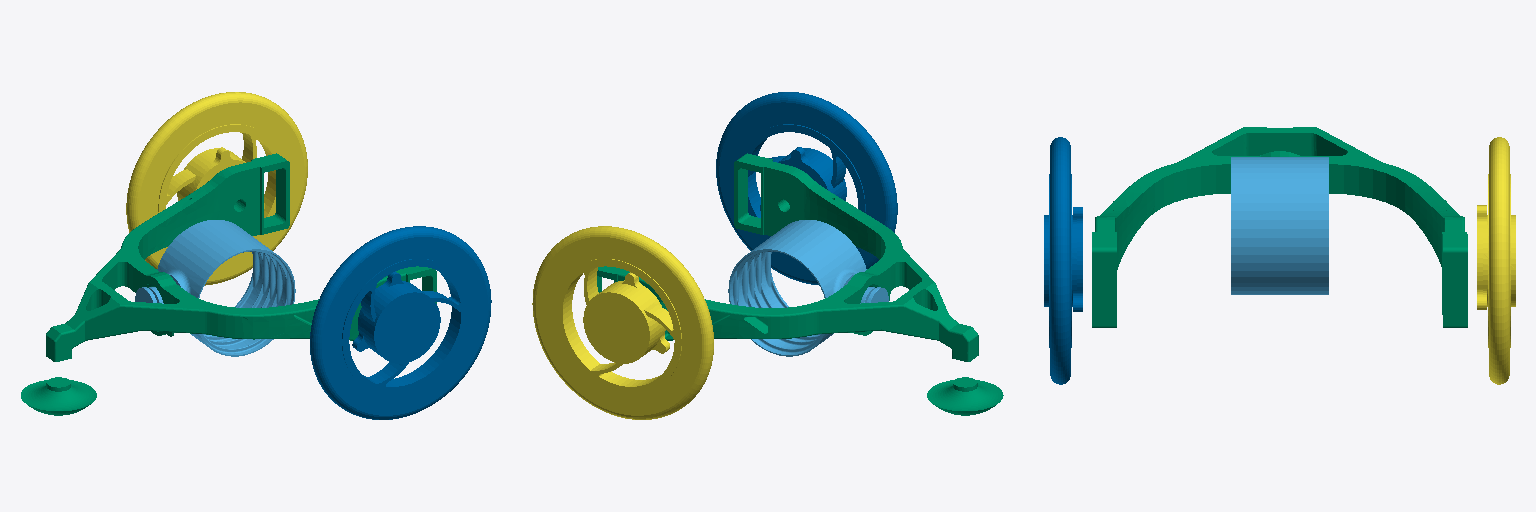
--- What the picture shows (computed from the rendered views, not written in the file) ---
The picture shows the robot from 3 angles, left to right: view 1: azimuth 30°, elevation 25°; view 2: azimuth 150°, elevation 25°; view 3: azimuth 270°, elevation 25°; orthographic projection.
Robot: Eve_base — 5 links, 4 joints (2 revolute, 2 fixed); root link base; default pose: every joint at zero.
Visible links, largest first — view 1: r_wheel, base, l_wheel, ankle_y_link; view 2: l_wheel, base, r_wheel, ankle_y_link; view 3: base, ankle_y_link, r_wheel, l_wheel.
Boxes of the visible links, left/top/right/bottom form: r_wheel: left=310, top=226, right=491, bottom=419; base: left=21, top=153, right=436, bottom=415; l_wheel: left=126, top=92, right=307, bottom=285; ankle_y_link: left=135, top=220, right=295, bottom=356; l_wheel: left=532, top=226, right=713, bottom=419; base: left=597, top=153, right=1003, bottom=415; r_wheel: left=716, top=92, right=897, bottom=285; ankle_y_link: left=728, top=220, right=888, bottom=356; base: left=1092, top=127, right=1467, bottom=327; ankle_y_link: left=1231, top=157, right=1328, bottom=294; r_wheel: left=1044, top=137, right=1082, bottom=384; l_wheel: left=1477, top=137, right=1515, bottom=384.
Size in the robot's own frame: 0.6336 by 0.5797 by 0.3048 metres.
4 mesh visuals loaded from 4 distinct referenced files (3 OBJ); not drawn: 1 (reference not matched to a file when rendering).

The robot description file, URDF, robot "Eve_base":
<?xml version="1.0" encoding="UTF-8" standalone="yes"?>
<robot xmlns:ns2="http://www.ros.org" xmlns:xi="http://www.w3.org/2003/XInclude" name="Eve_base">

<!--  <link name="pelvis">-->
<!--    <inertial>-->
<!--      <origin xyz="-0.01035145 -0.00576441 0.41289202" rpy="0.0 0.0 0.0"/>-->
<!--      <mass value="10.11628645"/>-->
<!--      <inertia ixx="0.16934147" ixy="1.49E-4" ixz="0.00652485" iyy="0.1566806" iyz="-0.00748297" izz="0.05486492"/>-->
<!--    </inertial>-->
<!--    <visual>-->
<!--      <origin xyz="0.0 0.0 0.0" rpy="1.5707963 0.0 1.5707963"/>-->
<!--      <geometry>-->
<!--        <mesh filename="package://eve/meshes/7dof_torso.obj" scale="1 1 1"/>-->
<!--      </geometry>-->
<!--    </visual>-->
<!--&lt;!&ndash;    <collision>&ndash;&gt;-->
<!--&lt;!&ndash;      <origin xyz="0.0 0.0 0.0" rpy="1.5707963 0.0 1.5707963"/>&ndash;&gt;-->
<!--&lt;!&ndash;      <geometry>&ndash;&gt;-->
<!--&lt;!&ndash;        <sphere radius="0.12"/>&ndash;&gt;-->
<!--&lt;!&ndash;      </geometry>&ndash;&gt;-->
<!--&lt;!&ndash;    </collision>&ndash;&gt;-->
<!--  </link>-->
<!--  <joint name="j_hip_z" type="revolute">-->
<!--    <origin xyz="0.0 0.0 0.0" rpy="0.0 0.0 0.0"/>-->
<!--    <parent link="abdomen"/>-->
<!--    <child link="pelvis"/>-->
<!--    <axis xyz="0.0 0.0 -1.0"/>-->
<!--    <limit lower="-1.0472" upper="1.0472" effort="-1.0" velocity="1.0"/>-->
<!--  </joint>-->
<!--  <transmission name="j_hip_z_trans">-->
<!--	  <type>SimpleTransmission</type>-->
<!--	  <joint name="j_hip_z">-->
<!--	    <hardwareInterface>EffortJointInterface</hardwareInterface>-->
<!--	  </joint>-->
<!--	  <actuator name="j_hip_z_actuator">-->
<!--	  </actuator>-->
<!--  </transmission>-->
<!--  <gazebo reference="pelvis">-->
<!--    <sensor name="imu_sensor" type="imu">-->
<!--      <always_on>1</always_on>-->
<!--      <update_rate>1000</update_rate>-->
<!--      <imu>-->
<!--        <noise>-->
<!--          <type>gaussian</type>-->
<!--          <rate>-->
<!--            <mean>0</mean>-->
<!--            <stddev>0.0002</stddev>-->
<!--            <bias_mean>7.5e-06</bias_mean>-->
<!--            <bias_stddev>8e-07</bias_stddev>-->
<!--          </rate>-->
<!--          <accel>-->
<!--            <mean>0</mean>-->
<!--            <stddev>0.017</stddev>-->
<!--            <bias_mean>0.1</bias_mean>-->
<!--            <bias_stddev>0.001</bias_stddev>-->
<!--          </accel>-->
<!--        </noise>-->
<!--      </imu>-->
<!--      <pose frame="">0.0 0.0 0.142 0 0.0 0</pose>-->
<!--    </sensor>-->
<!--  </gazebo>-->

<!--  <link name="abdomen">-->
<!--    <inertial>-->
<!--      <origin xyz="-0.05558735 0.00156974 0.13110756" rpy="0.0 0.0 0.0"/>-->
<!--      <mass value="3.4381772"/>-->
<!--      <inertia ixx="0.05607222" ixy="7.0118E-4" ixz="-0.01468099" iyy="0.05435718" iyz="-0.00188443" izz="0.02016737"/>-->
<!--    </inertial>-->
<!--    <visual>-->
<!--      <origin xyz="0.0 0.0 0.0" rpy="1.5707963 0.0 1.5707963"/>-->
<!--      <geometry>-->
<!--        <mesh filename="package://eve/meshes/abdomen.obj" scale="1 1 1"/>-->
<!--      </geometry>-->
<!--    </visual>-->
<!--  </link>-->
<!--  <joint name="j_hip_x" type="revolute">-->
<!--    <origin xyz="0.0 0.0 0.0" rpy="0.0 0.0 0.0"/>-->
<!--    <parent link="hip_x_link"/>-->
<!--    <child link="abdomen"/>-->
<!--    <axis xyz="1.0 0.0 0.0"/>-->
<!--    <limit lower="-0.523599" upper="0.523599" effort="-1.0" velocity="1.0"/>-->
<!--  </joint>-->
<!--  <transmission name="j_hip_x_trans">-->
<!--    <type>SimpleTransmission</type>-->
<!--    <joint name="j_hip_x">-->
<!--      <hardwareInterface>EffortJointInterface</hardwareInterface>-->
<!--    </joint>-->
<!--    <actuator name="j_hip_x_actuator">-->
<!--    </actuator>-->
<!--  </transmission>-->
<!--  <link name="hip_x_link">-->
<!--    <inertial>-->
<!--      <origin xyz="-0.013462 -0.001267 -7.7E-5" rpy="0.0 0.0 0.0"/>-->
<!--      <mass value="2.868669"/>-->
<!--      <inertia ixx="0.013678" ixy="5.6E-5" ixz="-7.6E-4" iyy="0.014884" iyz="1.4E-5" izz="0.016484"/>-->
<!--    </inertial>-->
<!--    <visual>-->
<!--      <origin xyz="0.0 0.0 0.0" rpy="1.5707963 0.0 1.5707963"/>-->
<!--      <geometry>-->
<!--        <mesh filename="package://eve/meshes/hip.obj" scale="1 1 1"/>-->
<!--      </geometry>-->
<!--    </visual>-->
<!--  </link>-->
<!--  <joint name="j_hip_y" type="revolute">-->
<!--    <origin xyz="0.0 0.0 0.4" rpy="0.0 0.0 0.0"/>-->
<!--    <parent link="thigh"/>-->
<!--    <child link="hip_x_link"/>-->
<!--    <axis xyz="0.0 1.0 0.0"/>-->
<!--    <limit lower="-1.57" upper="0.174533" effort="-1.0" velocity="1.0"/>-->
<!--  </joint>-->
<!--  <transmission name="j_hip_y_trans">-->
<!--    <type>SimpleTransmission</type>-->
<!--    <joint name="j_hip_y">-->
<!--      <hardwareInterface>EffortJointInterface</hardwareInterface>-->
<!--    </joint>-->
<!--    <actuator name="j_hip_y_actuator">-->
<!--    </actuator>-->
<!--  </transmission>-->
<!--  <link name="thigh">-->
<!--    <inertial>-->
<!--      &lt;!&ndash; <origin xyz="0.048668 0.002117 -0.216367" rpy="0.0 0.0 0.0"/> &ndash;&gt;-->
<!--      <origin xyz="0.048668 0.002117 0.183633" rpy="0.0 0.0 0.0"/>-->
<!--      <mass value="12.846698"/>-->
<!--      <inertia ixx="0.172201" ixy="-0.001348" ixz="0.012646" iyy="0.155119" iyz="-6.0E-4" izz="0.076153"/>-->
<!--    </inertial>-->
<!--    <visual>-->
<!--      <origin xyz="0.0 0.0 0.4" rpy="1.5707963 0.0 1.5707963"/>-->
<!--      <geometry>-->
<!--        <mesh filename="package://eve/meshes/thigh.obj" scale="1 1 1"/>-->
<!--      </geometry>-->
<!--    </visual>-->
<!--  </link>-->
<!--  <joint name="j_knee_y" type="revolute">-->
<!--    &lt;!&ndash; <origin xyz="0.0 0.0 -0.4" rpy="0.0 0.0 0.0"/> &ndash;&gt;-->
<!--    <origin xyz="0.0 0.0 0.38" rpy="0.0 0.0 0.0"/>-->
<!--    <parent link="shin"/>-->
<!--    <child link="thigh"/>-->
<!--    <axis xyz="0.0 1.0 0.0"/>-->
<!--    <limit lower="0.0" upper="2.583" effort="-1.0" velocity="1.0"/>-->
<!--  </joint>-->
<!--  <transmission name="j_knee_y_trans">-->
<!--    <type>SimpleTransmission</type>-->
<!--    <joint name="j_knee_y">-->
<!--      <hardwareInterface>EffortJointInterface</hardwareInterface>-->
<!--    </joint>-->
<!--    <actuator name="j_knee_y_actuator">-->
<!--    </actuator>-->
<!--  </transmission>-->
  <link name="shin">
    <inertial>
      <!-- <origin xyz="0.019484 6.7E-5 -0.167324" rpy="0.0 0.0 0.0"/> -->
      <origin xyz="0.019484 6.7E-5 0.212676" rpy="0.0 0.0 0.0"/>
      <mass value="10.894892"/>
      <inertia ixx="0.191988" ixy="-2.08E-4" ixz="0.005202" iyy="0.176793" iyz="-3.45E-4" izz="0.049718"/>
    </inertial>
    <visual>
      <origin xyz="0.0 0.0 0.38" rpy="1.5707963 0.0 1.5707963"/>
      <geometry>
        <mesh filename="package://eve/meshes/shin.obj" scale="1 1 1"/>
      </geometry>
    </visual>
  </link>
  <joint name="j_ankle_y" type="revolute">
    <!-- <origin xyz="0.0 0.0 -0.38" rpy="0.0 0.0 0.0"/> -->
    <origin xyz="0.0 0.0 0.0" rpy="0.0 0.0 0.0"/>
    <parent link="ankle_y_link"/>
    <child link="shin"/>
    <axis xyz="0.0 1.0 0.0"/>
    <limit lower="-0.174533" upper="1.57" effort="1.0" velocity="1.0"/>
  </joint>
  <transmission name="j_ankle_y_trans">
    <type>SimpleTransmission</type>
    <joint name="j_ankle_y">
      <hardwareInterface>EffortJointInterface</hardwareInterface>
    </joint>
    <actuator name="j_ankle_y_actuator">
    </actuator>
  </transmission>
  <link name="ankle_y_link">
    <inertial>
      <origin xyz="-0.017821 0.001497 -6.49E-4" rpy="0.0 0.0 0.0"/>
      <mass value="2.656189"/>
      <inertia ixx="0.010249" ixy="-8.2E-5" ixz="2.65E-4" iyy="0.009117" iyz="9.0E-6" izz="0.013843"/>
    </inertial>
    <visual>
      <origin xyz="0.0 0.0 0.0" rpy="1.5707963 0.0 1.5707963"/>
      <geometry>
        <mesh filename="package://eve/meshes/ankle.obj" scale="1 1 1"/>
      </geometry>
    </visual>
  </link>
  <joint name="j_ankle_x" type="revolute">
    <origin xyz="0.0 0.0 0.0" rpy="0.0 0.0 0.0"/>
    <parent link="base"/>
    <child link="ankle_y_link"/>
    <axis xyz="1.0 0.0 0.0"/>
    <limit lower="-0.523599" upper="0.523599" effort="1.0" velocity="1.0"/>
  </joint>
  <transmission name="j_ankle_x_trans">
    <type>SimpleTransmission</type>
    <joint name="j_ankle_x">
      <hardwareInterface>EffortJointInterface</hardwareInterface>
    </joint>
    <actuator name="j_ankle_x_actuator">
    </actuator>
  </transmission>
  <link name="base">
    <inertial>
      <origin xyz="0.021997 0.006327 -0.006204" rpy="0.0 0.0 0.0"/>
      <mass value="13.647499"/>
      <inertia ixx="0.461101" ixy="-0.004042" ixz="-0.020010" iyy="0.246583" iyz="-0.000110" izz="0.679520"/>
    </inertial>
    <visual>
      <origin xyz="0.0 0.0 0.0" rpy="1.5707963 0.0 1.5707963"/>
      <geometry>
        <mesh filename="package://eve/meshes/base_wheels.obj" scale="1 1 1"/>
        <!-- <box size=".5 .15 .5" /> -->
      </geometry>
    </visual>
<!--    <collision>-->
<!--      <origin xyz="-0.28 0.0 -0.08" rpy="1.5707963 0.0 1.5707963"/>-->
<!--      <geometry>-->
<!--        <sphere radius="0.05"/>-->
<!--      </geometry>-->
<!--    </collision>-->
<!--    <collision>-->
<!--      <origin xyz="0.0 0.0 0.0" rpy="1.5707963 0.0 1.5707963"/>-->
<!--      <geometry>-->
<!--        &lt;!&ndash; <mesh filename="package://eve/meshes/base_wheels.obj" scale="1 1 1"/> &ndash;&gt;-->
<!--        <box size=".4 .15 .6" />-->
<!--      </geometry>-->
<!--    </collision>-->
  </link>


  <joint name="j_l_wheel_y" type="fixed">
    <origin xyz="0.142 0.26983 0.019" rpy="0.0 0.0 0.0"/>
    <parent link="base"/>
    <child link="l_wheel"/>
    <axis xyz="0.0 1.0 0.0"/>
    <limit lower="-1.0E16" upper="1.0E16" effort="-1.0" velocity="1.0"/>
  </joint>
<!--  <transmission name="j_l_wheel_y_trans">-->
<!--    <type>SimpleTransmission</type>-->
<!--    <joint name="j_l_wheel_y">-->
<!--      <hardwareInterface>EffortJointInterface</hardwareInterface>-->
<!--    </joint>-->
<!--    <actuator name="j_l_wheel_y_actuator">-->
<!--    </actuator>-->
<!--  </transmission>-->
  <link name="l_wheel">
    <inertial>
      <origin xyz="0.0 0.0 0.0" rpy="0.0 0.0 0.0"/>
      <mass value="1.52693"/>
      <inertia ixx="0.007129" ixy="-0.0" ixz="-0.0" iyy="0.013685" iyz="-0.0" izz="0.007131"/>
    </inertial>
    <visual>
      <origin xyz="0.0 0.0 0.0" rpy="1.5707963 0.0 -1.5707963"/>
      <geometry>
        <mesh filename="package://eve/meshes/wheel.obj" scale="1 1 1"/>
        <!-- <cylinder length="0.02" radius="0.14"/> -->
      </geometry>
    </visual>
<!--    <collision>-->
<!--      <origin xyz="0.0 0.0 0.0" rpy="1.5707963 0.0 0.0"/>-->
<!--      <geometry>-->
<!--        &lt;!&ndash; <mesh filename="package://eve/meshes/wheel.obj" scale="1 1 1"/> &ndash;&gt;-->
<!--        <cylinder length="0.02" radius="0.14"/>-->
<!--      </geometry>-->
<!--    </collision>-->
  </link>
  <joint name="j_r_wheel_y" type="fixed">
    <origin xyz="0.142 -0.26983 0.019" rpy="0.0 0.0 0.0"/>
    <parent link="base"/>
    <child link="r_wheel"/>
    <axis xyz="0.0 1.0 0.0"/>
    <limit lower="-1.0E16" upper="1.0E16" effort="-1.0" velocity="1.0"/>
  </joint>
<!--  <transmission name="j_r_wheel_y_trans">-->
<!--    <type>SimpleTransmission</type>-->
<!--    <joint name="j_r_wheel_y">-->
<!--      <hardwareInterface>EffortJointInterface</hardwareInterface>-->
<!--    </joint>-->
<!--    <actuator name="j_r_wheel_y_actuator">-->
<!--    </actuator>-->
<!--  </transmission>-->
  <link name="r_wheel">
    <inertial>
      <origin xyz="0.0 0.0 0.0" rpy="0.0 0.0 0.0"/>
      <mass value="1.52693"/>
      <inertia ixx="0.007129" ixy="-0.0" ixz="-0.0" iyy="0.013685" iyz="-0.0" izz="0.007131"/>
    </inertial>
    <visual>
      <origin xyz="0.0 0.0 0.0" rpy="1.5707963 0.0 1.5707963"/>
      <geometry>
        <mesh filename="package://eve/meshes/wheel.obj" scale="1 1 1"/>
        <!-- <cylinder length="0.02" radius="0.14"/> -->
      </geometry>
    </visual>
<!--    <collision>-->
<!--      <origin xyz="0.0 0.0 0.0" rpy="1.5707963 0.0 0.0"/>-->
<!--      <geometry>-->
<!--        <cylinder length="0.02" radius="0.14"/>-->
<!--        &lt;!&ndash; <mesh filename="package://eve/meshes/wheel.obj" scale="1 1 1"/> &ndash;&gt;-->
<!--      </geometry>-->
<!--    </collision> -->
  </link>



<!--  <joint name="j_r_shoulder_y" type="revolute">-->
<!--    <origin xyz="0.010525 -0.207221 0.545525" rpy="-0.253261563 0.0 0.261799"/>-->
<!--    <parent link="pelvis"/>-->
<!--    <child link="r_scapula"/>-->
<!--    <axis xyz="0.0 1.0 0.0"/>-->
<!--    <limit lower="-2.4240878" upper="0.981049573" effort="-1.0" velocity="1.0"/>-->
<!--  </joint>-->
<!--  <transmission name="j_r_shoulder_y_trans">-->
<!--    <type>SimpleTransmission</type>-->
<!--    <joint name="j_r_shoulder_y">-->
<!--      <hardwareInterface>EffortJointInterface</hardwareInterface>-->
<!--    </joint>-->
<!--    <actuator name="j_r_shoulder_y_actuator">-->
<!--    </actuator>-->
<!--  </transmission>-->
<!--  <link name="r_scapula">-->
<!--    <inertial>-->
<!--      <origin xyz="6.1099E-4 0.06306661 0.03032448" rpy="0.0 0.0 0.0"/>-->
<!--      <mass value="2.75566786"/>-->
<!--      <inertia ixx="0.00936557" ixy="2.264E-5" ixz="-7.112E-5" iyy="0.01079015" iyz="8.423E-4" izz="0.01267759"/>-->
<!--    </inertial>-->
<!--    <visual>-->
<!--      <origin xyz="0.0 0.0 0.0" rpy="1.5707963 1.5707963 0.0"/>-->
<!--      <geometry>-->
<!--        <mesh filename="../meshes/7dof_scapula.obj" scale="1 1 1"/>-->
<!--      </geometry>-->
<!--    </visual>-->
<!--  </link>-->
<!--  <joint name="j_r_shoulder_x" type="revolute">-->
<!--    <origin xyz="0.0 0.0 0.0" rpy="0.253261563 0.0 0.0"/>-->
<!--    <parent link="r_scapula"/>-->
<!--    <child link="r_shoulder"/>-->
<!--    <axis xyz="1.0 0.0 0.0"/>-->
<!--    <limit lower="-2.0943951" upper="0.0872665" effort="-1.0" velocity="1.0"/>-->
<!--  </joint>-->
<!--  <transmission name="j_r_shoulder_x_trans">-->
<!--    <type>SimpleTransmission</type>-->
<!--    <joint name="j_r_shoulder_x">-->
<!--      <hardwareInterface>EffortJointInterface</hardwareInterface>-->
<!--    </joint>-->
<!--    <actuator name="j_r_shoulder_x_actuator">-->
<!--    </actuator>-->
<!--  </transmission>-->
<!--  <link name="r_shoulder">-->
<!--    <inertial>-->
<!--      <origin xyz="0.0 -7.0614E-4 -0.01975465" rpy="0.0 0.0 0.0"/>-->
<!--      <mass value="0.70264272"/>-->
<!--      <inertia ixx="0.00115475" ixy="-3.2E-7" ixz="-1.4E-7" iyy="0.00143713" iyz="2.63E-6" izz="9.4633E-4"/>-->
<!--    </inertial>-->
<!--    <visual>-->
<!--      <origin xyz="0.0 0.0 0.0" rpy="1.5708 0 0"/>-->
<!--      <geometry>-->
<!--        <mesh filename="../meshes/7dof_shoulder.obj" scale="1 1 1"/>-->
<!--      </geometry>-->
<!--    </visual>-->
<!--  </link>-->
<!--  <joint name="j_r_shoulder_z" type="revolute">-->
<!--    <origin xyz="0.0 0.0 0.0" rpy="0.0 0.0 -0.261799"/>-->
<!--    <parent link="r_shoulder"/>-->
<!--    <child link="r_upper_arm"/>-->
<!--    <axis xyz="0.0 0.0 1.0"/>-->
<!--    <limit lower="0.0872665" upper="2.0943951" effort="-1.0" velocity="1.0"/>-->
<!--  </joint>-->
<!--  <transmission name="j_r_shoulder_z_trans">-->
<!--    <type>SimpleTransmission</type>-->
<!--    <joint name="j_r_shoulder_z">-->
<!--      <hardwareInterface>EffortJointInterface</hardwareInterface>-->
<!--    </joint>-->
<!--    <actuator name="j_r_shoulder_z_actuator">-->
<!--    </actuator>-->
<!--  </transmission>-->
<!--  <link name="r_upper_arm">-->
<!--    <inertial>-->
<!--      <origin xyz="-0.0062579 3.507E-5 -0.17187666" rpy="0.0 0.0 0.0"/>-->
<!--      <mass value="2.92531724"/>-->
<!--      <inertia ixx="0.01341653" ixy="-6.4E-7" ixz="-2.9063E-4" iyy="0.01287847" iyz="-3.08E-6" izz="0.00487381"/>-->
<!--    </inertial>-->
<!--    <visual>-->
<!--      <origin xyz="0.0 0.0 -0.314" rpy="1.5707963 0.0 1.5707963"/>-->
<!--      <geometry>-->
<!--        <mesh filename="../meshes/7dof_upper_arm.obj" scale="1 1 1"/>-->
<!--      </geometry>-->
<!--    </visual>-->
<!--  </link>-->
<!--  <joint name="j_r_elbow_y" type="revolute">-->
<!--    <origin xyz="0.0 0.0 -0.313989" rpy="0.0 0.0 0.0"/>-->
<!--    <parent link="r_upper_arm"/>-->
<!--    <child link="r_elbow"/>-->
<!--    <axis xyz="0.0 1 0.0"/>-->
<!--    <limit lower="-2.18166" upper="0.0" effort="-1.0" velocity="1.0"/>-->
<!--  </joint>-->
<!--  <transmission name="j_r_elbow_y_trans">-->
<!--    <type>SimpleTransmission</type>-->
<!--    <joint name="j_r_elbow_y">-->
<!--      <hardwareInterface>EffortJointInterface</hardwareInterface>-->
<!--    </joint>-->
<!--    <actuator name="j_r_elbow_y_actuator">-->
<!--    </actuator>-->
<!--  </transmission>-->
<!--  <link name="r_elbow">-->
<!--    <inertial>-->
<!--      <origin xyz="5.494E-5 0.0 -0.00888504" rpy="0.0 0.0 0.0"/>-->
<!--      <mass value="0.46261553"/>-->
<!--      <inertia ixx="8.227E-4" ixy="-0.0" ixz="9.6E-7" iyy="3.6441E-4" iyz="-0.0" izz="6.1472E-4"/>-->
<!--    </inertial>-->
<!--    <visual>-->
<!--      <origin xyz="0.0 0.0 0.0" rpy="1.5707963 0.0 1.5707963"/>-->
<!--      <geometry>-->
<!--        <mesh filename="../meshes/7dof_elbow.obj" scale="1 1 1"/>-->
<!--      </geometry>-->
<!--    </visual>-->
<!--&lt;!&ndash;    <collision>&ndash;&gt;-->
<!--&lt;!&ndash;      <origin xyz="0.0 0.0 0.0" rpy="1.5707963 0.0 1.5707963"/>&ndash;&gt;-->
<!--&lt;!&ndash;      <geometry>&ndash;&gt;-->
<!--&lt;!&ndash;        <sphere radius="0.07"/>&ndash;&gt;-->
<!--&lt;!&ndash;      </geometry>&ndash;&gt;-->
<!--&lt;!&ndash;    </collision>&ndash;&gt;-->
<!--  </link>-->
<!--  <joint name="j_r_elbow_z" type="revolute">-->
<!--    <origin xyz="0.0 0.0 0.0" rpy="0.0 0.0 0.0"/>-->
<!--    <parent link="r_elbow"/>-->
<!--    <child link="r_lower_arm"/>-->
<!--    <axis xyz="0.0 0.0 1"/>-->
<!--    <limit lower="-0.7854" upper="1.5708" effort="-1.0" velocity="1.0"/>-->
<!--  </joint>-->
<!--  <transmission name="j_r_elbow_z_trans">-->
<!--    <type>SimpleTransmission</type>-->
<!--    <joint name="j_r_elbow_z">-->
<!--      <hardwareInterface>EffortJointInterface</hardwareInterface>-->
<!--    </joint>-->
<!--    <actuator name="j_r_elbow_z_actuator">-->
<!--    </actuator>-->
<!--  </transmission>-->
<!--  <link name="r_lower_arm">-->
<!--    <inertial>-->
<!--      <origin xyz="-4.326E-5 3.091E-5 -0.13751046" rpy="0.0 0.0 0.0"/>-->
<!--      <mass value="1.63933464"/>-->
<!--      <inertia ixx="0.00678741" ixy="1.11E-6" ixz="-1.253E-5" iyy="0.00706746" iyz="1.485E-5" izz="0.00183806"/>-->
<!--    </inertial>-->
<!--    <visual>-->
<!--      <origin xyz="0.0 0.0 -0.292850" rpy="1.5707963 0.0 1.5707963"/>-->
<!--      <geometry>-->
<!--        <mesh filename="../meshes/7dof_forearm.obj" scale="1 1 1"/>-->
<!--      </geometry>-->
<!--    </visual>-->
<!--  </link>-->
<!--  <joint name="j_r_wrist_y" type="revolute">-->
<!--    <origin xyz="0.0 0.0 -0.292850" rpy="0.0 0.0 0.0"/>-->
<!--    <parent link="r_lower_arm"/>-->
<!--    <child link="r_wrist"/>-->
<!--    <axis xyz="0.0 1 0.0"/>-->
<!--    <limit lower="-0.785398" upper="0.785398" effort="-1.0" velocity="1.0"/>-->
<!--  </joint>-->
<!--  <transmission name="j_r_wrist_y_trans">-->
<!--    <type>SimpleTransmission</type>-->
<!--    <joint name="j_r_wrist_y">-->
<!--      <hardwareInterface>EffortJointInterface</hardwareInterface>-->
<!--    </joint>-->
<!--    <actuator name="j_r_wrist_y_actuator">-->
<!--    </actuator>-->
<!--  </transmission>-->
<!--  <link name="r_wrist">-->
<!--    <inertial>-->
<!--      <origin xyz="0.00240142 7.9666E-4 -0.00125392" rpy="0.0 0.0 0.0"/>-->
<!--      <mass value="0.30363399"/>-->
<!--      <inertia ixx="1.8188E-4" ixy="2.27E-6" ixz="-2.16E-6" iyy="1.6139E-4" iyz="-9.5E-7" izz="2.7335E-4"/>-->
<!--    </inertial>-->
<!--    <visual>-->
<!--      <origin xyz="0.0 0.0 0.0" rpy="1.5707963 0.0 1.5707963"/>-->
<!--      <geometry>-->
<!--        <mesh filename="../meshes/7dof_wrist.obj" scale="1 1 1"/>-->
<!--      </geometry>-->
<!--    </visual>-->
<!--  </link>-->
<!--  <joint name="j_r_wrist_x" type="revolute">-->
<!--    <origin xyz="0.0 0.0 0.0" rpy="0.0 0.0 0.0"/>-->
<!--    <parent link="r_wrist"/>-->
<!--    <child link="r_palm"/>-->
<!--    <axis xyz="1 0.0 0.0"/>-->
<!--    <limit lower="-0.523599" upper="1.5708" effort="-1.0" velocity="1.0"/>-->
<!--  </joint>-->
<!--  <transmission name="j_r_wrist_x_trans">-->
<!--    <type>SimpleTransmission</type>-->
<!--    <joint name="j_r_wrist_x">-->
<!--      <hardwareInterface>EffortJointInterface</hardwareInterface>-->
<!--    </joint>-->
<!--    <actuator name="j_r_wrist_x_actuator">-->
<!--    </actuator>-->
<!--  </transmission>-->
<!--  <link name="r_palm">-->
<!--    <inertial>-->
<!--      <origin xyz="0.00618476 -0.00346679 -0.01888817" rpy="0.0 0.0 0.0"/>-->
<!--      <mass value="0.1486378"/>-->
<!--      <inertia ixx="1.177E-4" ixy="-2.72E-6" ixz="-1.656E-5" iyy="2.8407E-4" iyz="-5.49E-6" izz="2.1805E-4"/>-->
<!--    </inertial>-->
<!--    <visual>-->
<!--      <origin xyz="0.0 0.0 0.0" rpy="-1.5707963 0.0 0.0"/>-->
<!--      <geometry>-->
<!--        <mesh filename="../meshes/7dof_palm.obj" scale="1 1 1"/>-->
<!--      </geometry>-->
<!--    </visual>-->
<!--&lt;!&ndash;    <collision>&ndash;&gt;-->
<!--&lt;!&ndash;      <origin xyz="0.0 0.0 0.0" rpy="-1.5707963 0.0 3.14159"/>&ndash;&gt;-->
<!--&lt;!&ndash;      <geometry>&ndash;&gt;-->
<!--&lt;!&ndash;        <sphere radius="0.05"/>&ndash;&gt;-->
<!--&lt;!&ndash;      </geometry>&ndash;&gt;-->
<!--&lt;!&ndash;    </collision>&ndash;&gt;-->
<!--  </link>-->


<!--  <joint name="j_l_shoulder_y" type="revolute">-->
<!--    <origin xyz="0.010525 0.207221 0.545525" rpy="0.253261563 0.0 -0.261799"/>-->
<!--    <parent link="pelvis"/>-->
<!--    <child link="l_scapula"/>-->
<!--    <axis xyz="0.0 1.0 0.0"/>-->
<!--    <limit lower="-2.4240878" upper="0.981049573" effort="-1.0" velocity="1.0"/>-->
<!--  </joint>-->
<!--  <transmission name="j_l_shoulder_y_trans">-->
<!--    <type>SimpleTransmission</type>-->
<!--    <joint name="j_l_shoulder_y">-->
<!--      <hardwareInterface>EffortJointInterface</hardwareInterface>-->
<!--    </joint>-->
<!--    <actuator name="j_l_shoulder_y_actuator">-->
<!--    </actuator>-->
<!--  </transmission>-->
<!--  <link name="l_scapula">-->
<!--    <inertial>-->
<!--      <origin xyz="-6.1099E-4 -0.06306661 0.03032448" rpy="0.0 0.0 0.0"/>-->
<!--      <mass value="2.75566786"/>-->
<!--      <inertia ixx="0.00936557" ixy="2.264E-5" ixz="7.112E-5" iyy="0.01079015" iyz="-8.423E-4" izz="0.01267759"/>-->
<!--    </inertial>-->
<!--    <visual>-->
<!--      <origin xyz="0.0 0.0 0.0" rpy="0.0 1.5707963 1.5707963"/>-->
<!--      <geometry>-->
<!--        <mesh filename="../meshes/7dof_scapula.obj" scale="1 1 1"/>-->
<!--      </geometry>-->
<!--    </visual>-->
<!--  </link>-->
<!--  <joint name="j_l_shoulder_x" type="revolute">-->
<!--    <origin xyz="0.0 0.0 0.0" rpy="-0.253261563 0.0 0.0"/>-->
<!--    <parent link="l_scapula"/>-->
<!--    <child link="l_shoulder"/>-->
<!--    <axis xyz="1.0 0.0 0.0"/>-->
<!--    <limit lower="-0.0872665" upper="2.0943951" effort="-1.0" velocity="1.0"/>-->
<!--  </joint>-->
<!--  <transmission name="j_l_shoulder_x_trans">-->
<!--    <type>SimpleTransmission</type>-->
<!--    <joint name="j_l_shoulder_x">-->
<!--      <hardwareInterface>EffortJointInterface</hardwareInterface>-->
<!--    </joint>-->
<!--    <actuator name="j_l_shoulder_x_actuator">-->
<!--    </actuator>-->
<!--  </transmission>-->
<!--  <link name="l_shoulder">-->
<!--    <inertial>-->
<!--      <origin xyz="0.0 7.0624E-4 -0.01975437" rpy="0.0 0.0 0.0"/>-->
<!--      <mass value="0.70265653"/>-->
<!--      <inertia ixx="0.00115475" ixy="-3.2E-7" ixz="1.3E-7" iyy="0.00143715" iyz="-2.63E-6" izz="9.4634E-4"/>-->
<!--    </inertial>-->
<!--    <visual>-->
<!--      <origin xyz="0.0 0.0 0.0" rpy="1.5708 0.0 0.0"/>-->
<!--      <geometry>-->
<!--        <mesh filename="../meshes/7dof_shoulder.obj" scale="1 1 1"/>-->
<!--      </geometry>-->
<!--    </visual>-->
<!--  </link>-->
<!--  <joint name="j_l_shoulder_z" type="revolute">-->
<!--    <origin xyz="0.0 0.0 0.0" rpy="0.0 0.0 0.261799"/>-->
<!--    <parent link="l_shoulder"/>-->
<!--    <child link="l_upper_arm"/>-->
<!--    <axis xyz="0.0 0.0 1.0"/>-->
<!--    <limit lower="-2.0943951" upper="-0.0872665" effort="-1.0" velocity="1.0"/>-->
<!--  </joint>-->
<!--  <transmission name="j_l_shoulder_z_trans">-->
<!--    <type>SimpleTransmission</type>-->
<!--    <joint name="j_l_shoulder_z">-->
<!--      <hardwareInterface>EffortJointInterface</hardwareInterface>-->
<!--    </joint>-->
<!--    <actuator name="j_l_shoulder_z_actuator">-->
<!--    </actuator>-->
<!--  </transmission>-->
<!--  <link name="l_upper_arm">-->
<!--    <inertial>-->
<!--      <origin xyz="-0.0062579 3.507E-5 -0.17187666" rpy="0.0 0.0 0.0"/>-->
<!--      <mass value="2.92531724"/>-->
<!--      <inertia ixx="0.01341653" ixy="-6.4E-7" ixz="-2.9063E-4" iyy="0.01287847" iyz="-3.08E-6" izz="0.00487381"/>-->
<!--    </inertial>-->
<!--    <visual>-->
<!--      <origin xyz="0.0 0.0 -0.314" rpy="1.5707963 0.0 1.5707963"/>-->
<!--      <geometry>-->
<!--        <mesh filename="../meshes/7dof_upper_arm.obj" scale="1 1 1"/>-->
<!--      </geometry>-->
<!--    </visual>-->
<!--  </link>-->
<!--  <joint name="j_l_elbow_y" type="revolute">-->
<!--    <origin xyz="0.0 0.0 -0.313989" rpy="0.0 0.0 0.0"/>-->
<!--    <parent link="l_upper_arm"/>-->
<!--    <child link="l_elbow"/>-->
<!--    <axis xyz="0.0 1.0 0.0"/>-->
<!--    <limit lower="-2.18166" upper="0.0" effort="-1.0" velocity="1.0"/>-->
<!--  </joint>-->
<!--  <transmission name="j_l_elbow_y_trans">-->
<!--    <type>SimpleTransmission</type>-->
<!--    <joint name="j_l_elbow_y">-->
<!--      <hardwareInterface>EffortJointInterface</hardwareInterface>-->
<!--    </joint>-->
<!--    <actuator name="j_l_elbow_y_actuator">-->
<!--    </actuator>-->
<!--  </transmission>-->
<!--  <link name="l_elbow">-->
<!--    <inertial>-->
<!--      <origin xyz="5.494E-5 0.0 -0.00888504" rpy="0.0 0.0 0.0"/>-->
<!--      <mass value="0.46261553"/>-->
<!--      <inertia ixx="8.227E-4" ixy="-0.0" ixz="9.6E-7" iyy="3.6441E-4" iyz="-0.0" izz="6.1472E-4"/>-->
<!--    </inertial>-->
<!--    <visual>-->
<!--      <origin xyz="0.0 0.0 0.0" rpy="1.5707963 0.0 1.5707963"/>-->
<!--      <geometry>-->
<!--        <mesh filename="../meshes/7dof_elbow.obj" scale="1 1 1"/>-->
<!--      </geometry>-->
<!--    </visual>-->
<!--&lt;!&ndash;    <collision>&ndash;&gt;-->
<!--&lt;!&ndash;      <origin xyz="0.0 0.0 0.0" rpy="1.5707963 0.0 1.5707963"/>&ndash;&gt;-->
<!--&lt;!&ndash;      <geometry>&ndash;&gt;-->
<!--&lt;!&ndash;        <sphere radius="0.07"/>&ndash;&gt;-->
<!--&lt;!&ndash;      </geometry>&ndash;&gt;-->
<!--&lt;!&ndash;    </collision>&ndash;&gt;-->
<!--  </link>-->
<!--  <joint name="j_l_elbow_z" type="revolute">-->
<!--    <origin xyz="0.0 0.0 0.0" rpy="0.0 0.0 0.0"/>-->
<!--    <parent link="l_elbow"/>-->
<!--    <child link="l_lower_arm"/>-->
<!--    <axis xyz="0.0 0.0 1.0"/>-->
<!--    <limit lower="-1.5708" upper="0.7854" effort="-1.0" velocity="1.0"/>-->
<!--  </joint>-->
<!--  <transmission name="j_l_elbow_z_trans">-->
<!--    <type>SimpleTransmission</type>-->
<!--    <joint name="j_l_elbow_z">-->
<!--      <hardwareInterface>EffortJointInterface</hardwareInterface>-->
<!--    </joint>-->
<!--    <actuator name="j_l_elbow_z_actuator">-->
<!--    </actuator>-->
<!--  </transmission>-->
<!--  <link name="l_lower_arm">-->
<!--    <inertial>-->
<!--      <origin xyz="-4.326E-5 3.091E-5 -0.13751046" rpy="0.0 0.0 0.0"/>-->
<!--      <mass value="1.63933464"/>-->
<!--      <inertia ixx="0.00678741" ixy="1.11E-6" ixz="-1.253E-5" iyy="0.00706746" iyz="1.485E-5" izz="0.00183806"/>-->
<!--    </inertial>-->
<!--    <visual>-->
<!--      <origin xyz="0.0 0.0 -0.29285" rpy="1.5707963 0.0 1.5707963"/>-->
<!--      <geometry>-->
<!--        <mesh filename="../meshes/7dof_forearm.obj" scale="1 1 1"/>-->
<!--      </geometry>-->
<!--    </visual>-->
<!--  </link>-->
<!--  <joint name="j_l_wrist_y" type="revolute">-->
<!--    <origin xyz="0.0 0.0 -0.29285" rpy="0.0 0.0 0.0"/>-->
<!--    <parent link="l_lower_arm"/>-->
<!--    <child link="l_wrist"/>-->
<!--    <axis xyz="0.0 1.0 0.0"/>-->
<!--    <limit lower="-0.785398" upper="0.785398" effort="-1.0" velocity="1.0"/>-->
<!--  </joint>-->
<!--  <transmission name="j_l_wrist_y_trans">-->
<!--    <type>SimpleTransmission</type>-->
<!--    <joint name="j_l_wrist_y">-->
<!--      <hardwareInterface>EffortJointInterface</hardwareInterface>-->
<!--    </joint>-->
<!--    <actuator name="j_l_wrist_y_actuator">-->
<!--    </actuator>-->
<!--  </transmission>-->
<!--  <link name="l_wrist">-->
<!--    <inertial>-->
<!--      <origin xyz="0.00240142 7.9666E-4 -0.00125392" rpy="0.0 0.0 0.0"/>-->
<!--      <mass value="0.30363399"/>-->
<!--      <inertia ixx="1.8188E-4" ixy="2.27E-6" ixz="-2.16E-6" iyy="1.6139E-4" iyz="-9.5E-7" izz="2.7335E-4"/>-->
<!--    </inertial>-->
<!--    <visual>-->
<!--      <origin xyz="0.0 0.0 0.0" rpy="1.5707963 0.0 1.5707963"/>-->
<!--      <geometry>-->
<!--        <mesh filename="../meshes/7dof_wrist.obj" scale="1 1 1"/>-->
<!--      </geometry>-->
<!--    </visual>-->
<!--  </link>-->
<!--  <joint name="j_l_wrist_x" type="revolute">-->
<!--    <origin xyz="0.0 0.0 0.0" rpy="0.0 0.0 0.0"/>-->
<!--    <parent link="l_wrist"/>-->
<!--    <child link="l_palm"/>-->
<!--    <axis xyz="1.0 0.0 0.0"/>-->
<!--    <limit lower="-1.5708" upper="0.523599" effort="-1.0" velocity="1.0"/>-->
<!--  </joint>-->
<!--  <transmission name="j_l_wrist_x_trans">-->
<!--    <type>SimpleTransmission</type>-->
<!--    <joint name="j_l_wrist_x">-->
<!--      <hardwareInterface>EffortJointInterface</hardwareInterface>-->
<!--    </joint>-->
<!--    <actuator name="j_l_wrist_x_actuator">-->
<!--    </actuator>-->
<!--  </transmission>-->
<!--  <link name="l_palm">-->
<!--    <inertial>-->
<!--      <origin xyz="0.00618476 -0.00346679 -0.01888817" rpy="0.0 0.0 0.0"/>-->
<!--      <mass value="0.1486378"/>-->
<!--      <inertia ixx="1.177E-4" ixy="-2.72E-6" ixz="-1.656E-5" iyy="2.8407E-4" iyz="-5.49E-6" izz="2.1805E-4"/>-->
<!--    </inertial>-->
<!--    <visual>-->
<!--      <origin xyz="0.0 0.0 0.0" rpy="-1.5707963 0.0 3.14159"/>-->
<!--      <geometry>-->
<!--        <mesh filename="../meshes/7dof_palm.obj" scale="1 1 1"/>-->
<!--      </geometry>-->
<!--    </visual>-->
<!--&lt;!&ndash;    <collision>&ndash;&gt;-->
<!--&lt;!&ndash;      <origin xyz="0.0 0.0 0.0" rpy="-1.5707963 0.0 3.14159"/>&ndash;&gt;-->
<!--&lt;!&ndash;      <geometry>&ndash;&gt;-->
<!--&lt;!&ndash;        <sphere radius="0.05"/>&ndash;&gt;-->
<!--&lt;!&ndash;      </geometry>&ndash;&gt;-->
<!--&lt;!&ndash;    </collision>&ndash;&gt;-->
<!--  </link>-->

<!--  <joint name="j_neck_y" type="revolute">-->
<!--    <origin xyz="-0.004458 0.0 0.680766" rpy="0.0 0.0 0.0"/>-->
<!--    <parent link="pelvis"/>-->
<!--    <child link="head"/>-->
<!--    <axis xyz="0.0 1 0.0"/>-->
<!--    <limit lower="-0.0872664626" upper="0.698132" effort="-1.0" velocity="1.0"/>-->
<!--  </joint>-->
<!--  <transmission name="j_neck_y_trans">-->
<!--    <type>SimpleTransmission</type>-->
<!--    <joint name="j_neck_y">-->
<!--      <hardwareInterface>EffortJointInterface</hardwareInterface>-->
<!--    </joint>-->
<!--    <actuator name="j_neck_y_actuator">-->
<!--    </actuator>-->
<!--  </transmission>-->
<!--  <link name="head">-->
<!--    <inertial>-->
<!--      <origin xyz="0.01272383 -0.00326913 0.07053205" rpy="0.0 0.0 0.0"/>-->
<!--      <mass value="2.355"/>-->
<!--      <inertia ixx="0.01719944" ixy="-8.079E-5" ixz="-0.0013284" iyy="0.0196904" iyz="2.3833E-4" izz="0.0077437"/>-->
<!--    </inertial>-->
<!--    <visual>-->
<!--      <origin xyz="0.0 0.0 0.0" rpy="1.5707963 0.0 1.5707963"/>-->
<!--      <geometry>-->
<!--        <mesh filename="../meshes/head.obj" scale="1 1 1"/>-->
<!--      </geometry>-->
<!--    </visual>-->
<!--&lt;!&ndash;    <collision>&ndash;&gt;-->
<!--&lt;!&ndash;      <origin xyz="0.0 0.0 0.1" rpy="1.5707963 0.0 1.5707963"/>&ndash;&gt;-->
<!--&lt;!&ndash;      <geometry>&ndash;&gt;-->
<!--&lt;!&ndash;        <sphere radius="0.12"/>&ndash;&gt;-->
<!--&lt;!&ndash;      </geometry>&ndash;&gt;-->
<!--&lt;!&ndash;    </collision>&ndash;&gt;-->
<!--  </link>-->
<!--  <gazebo reference="head">-->
<!--    <sensor name="realsense" type="camera">-->
<!--      <camera>-->
<!--        <image>-->
<!--          <width>640</width>-->
<!--          <height>480</height>-->
<!--          <format>R8G8B8</format>-->
<!--        </image>-->
<!--        <horizontal_fov>1.487021</horizontal_fov>-->
<!--        <clip>-->
<!--          <near>0.2</near>-->
<!--          <far>10</far>-->
<!--        </clip>-->
<!--      </camera>-->
<!--      <update_rate>6</update_rate>-->
<!--      <pose frame="">0.116669 0 0.17015 0 0.174533 0</pose>-->
<!--    </sensor>-->
<!--  </gazebo>-->

</robot>
